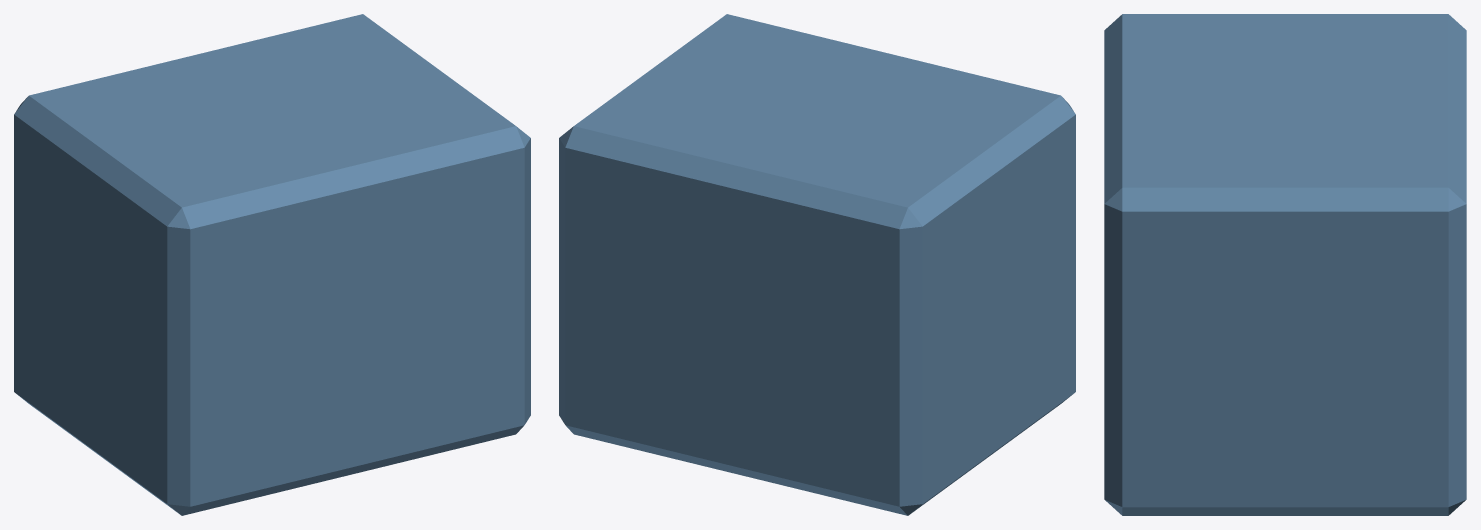
Rendered from Mesh_PiedraGrande_v04.fbx.
The picture shows the model from 3 angles, left to right: view 1: azimuth 30°, elevation 25°; view 2: azimuth 150°, elevation 25°; view 3: azimuth 270°, elevation 25°; orthographic projection. The views are drawn at different scales.
Parts seen in each view (by area): view 1: Mesh_PiedraGrande_v04; view 2: Mesh_PiedraGrande_v04; view 3: Mesh_PiedraGrande_v04.
Boxes of the visible parts, bbox=[...] form: Mesh_PiedraGrande_v04: bbox=[14, 14, 530, 515]; Mesh_PiedraGrande_v04: bbox=[559, 14, 1075, 515]; Mesh_PiedraGrande_v04: bbox=[1104, 14, 1466, 515].
Size of the model in its own units: 2.47 by 2 by 2.
